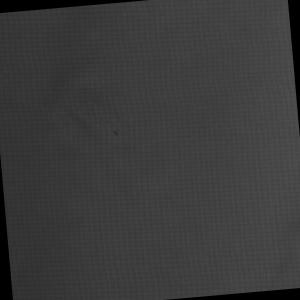Wrinkle: (29, 4, 129, 155), (255, 204, 300, 291)
